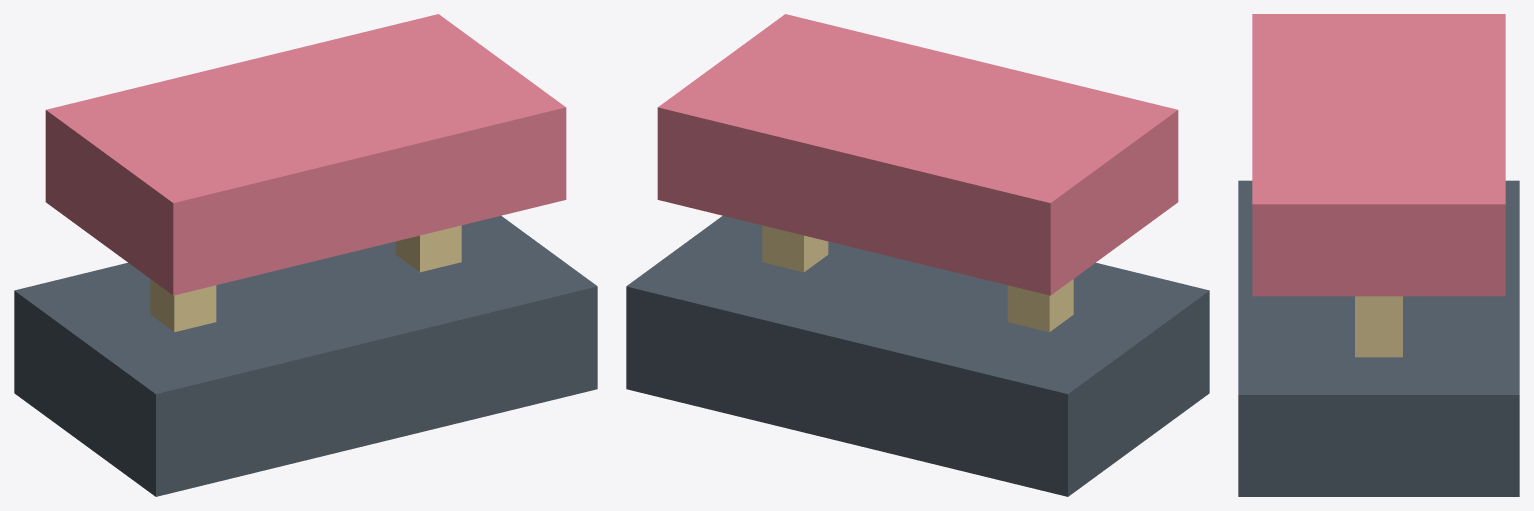
3 views of the same model, side by side, from view 1: azimuth 30°, elevation 25°; view 2: azimuth 150°, elevation 25°; view 3: azimuth 270°, elevation 25° (orthographic).
Visible parts, largest first — view 1: 0000__PSMAT__connector_black, 0003__PSMAT__alert_red, 0001__PSMAT__gold, 0002__PSMAT__gold; view 2: 0000__PSMAT__connector_black, 0003__PSMAT__alert_red, 0001__PSMAT__gold, 0002__PSMAT__gold; view 3: 0003__PSMAT__alert_red, 0000__PSMAT__connector_black, 0002__PSMAT__gold.
Boxes of the visible parts, x1,y1,x2,y2 form: 0000__PSMAT__connector_black: (14,216,597,496); 0003__PSMAT__alert_red: (45,14,566,295); 0001__PSMAT__gold: (150,279,216,332); 0002__PSMAT__gold: (395,225,461,272); 0000__PSMAT__connector_black: (626,216,1209,496); 0003__PSMAT__alert_red: (657,14,1178,295); 0001__PSMAT__gold: (1007,279,1073,332); 0002__PSMAT__gold: (762,225,828,272); 0003__PSMAT__alert_red: (1252,14,1505,296); 0000__PSMAT__connector_black: (1238,180,1519,496); 0002__PSMAT__gold: (1355,296,1402,357).
Size of the model in its own units: 0.009 by 0.0055 by 0.005.
